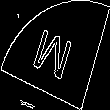M_S: (31, 23, 79, 87)
